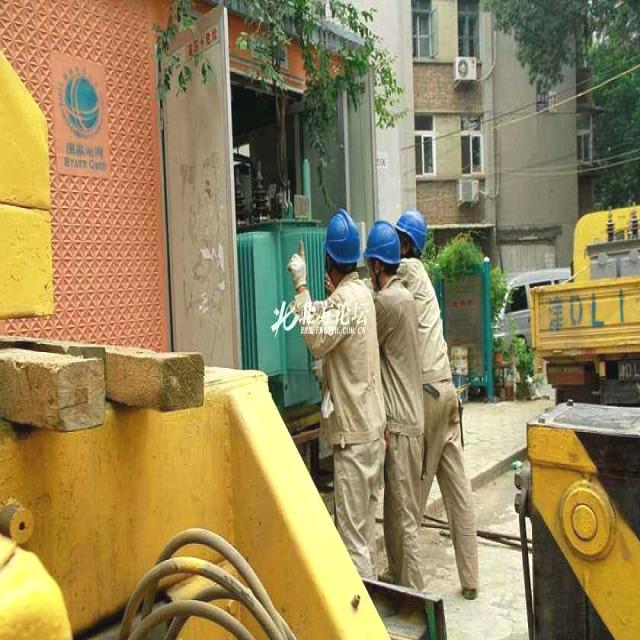hand_glove: (289, 239, 312, 288)
head_helmet: (326, 214, 362, 262), (397, 208, 434, 249), (367, 220, 399, 262)
person: (400, 216, 481, 602), (316, 210, 374, 565), (368, 222, 418, 587)
